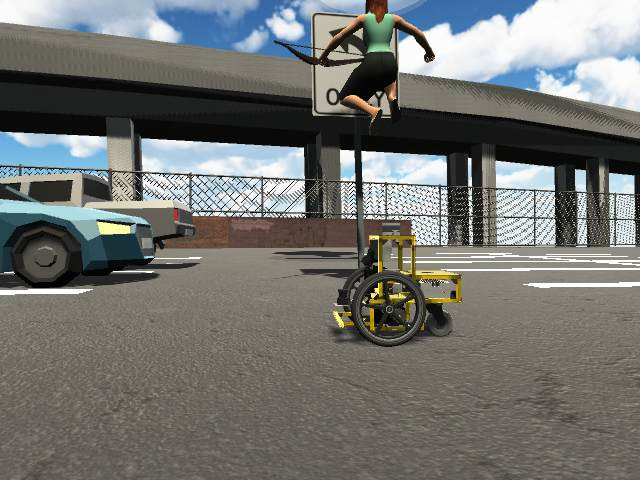arrow_left: (327, 24, 381, 81)
